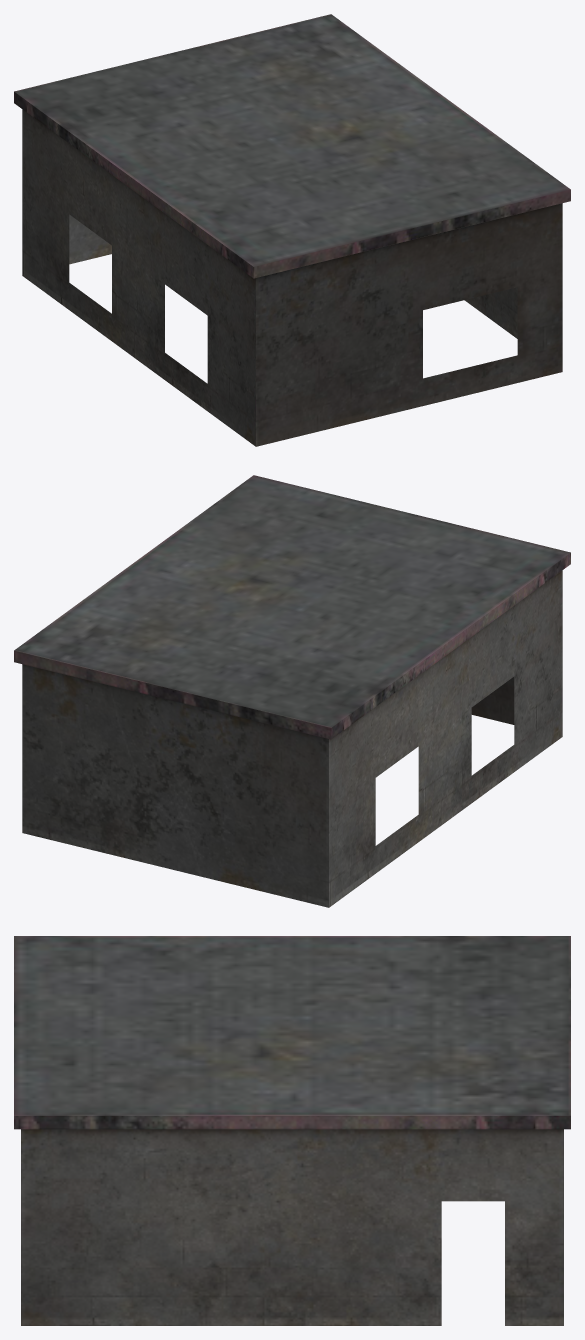
Rendered from RoofBlockout.FBX.
The picture shows the model from 3 angles, top to bottom: view 1: azimuth 30°, elevation 25°; view 2: azimuth 150°, elevation 25°; view 3: azimuth 270°, elevation 25°; orthographic projection. The views are drawn at different scales.
Parts seen in each view (by area): view 1: RoofBlockout; view 2: RoofBlockout; view 3: RoofBlockout.
Boxes of the visible parts, x1,y1,x2,y2 form: RoofBlockout: [14, 14, 570, 446]; RoofBlockout: [14, 475, 570, 907]; RoofBlockout: [14, 936, 570, 1325].
Bounding box in the file's own units: 840 × 464 × 1099.
